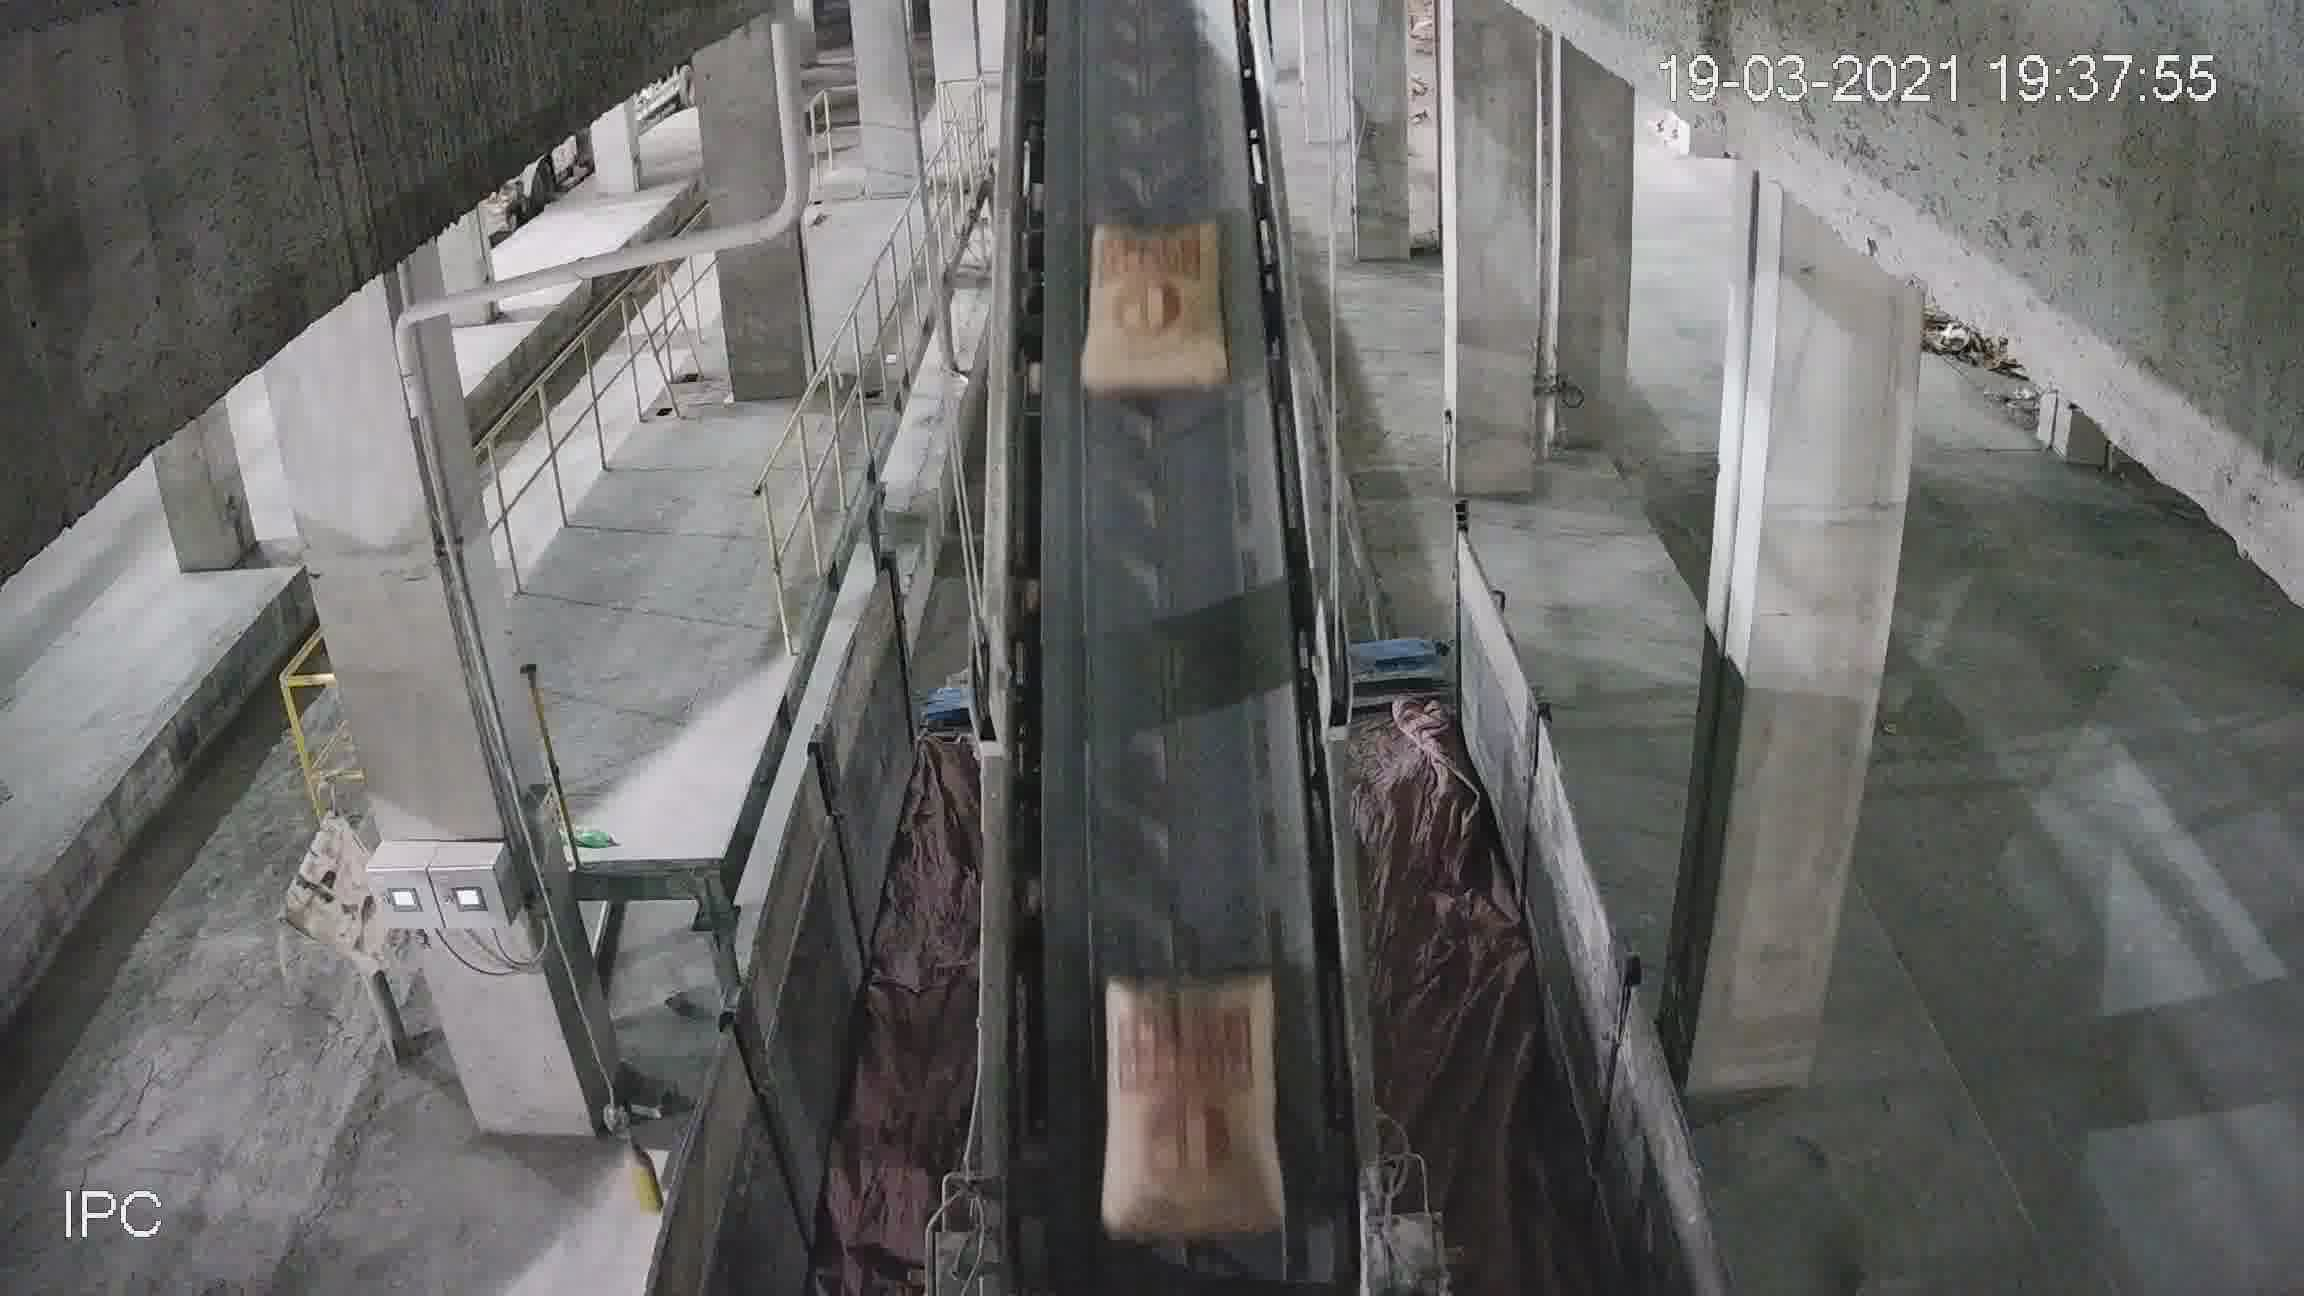bag: (1101, 973, 1279, 1204), (1082, 226, 1223, 396)
belt: (989, 116, 1339, 1176)
